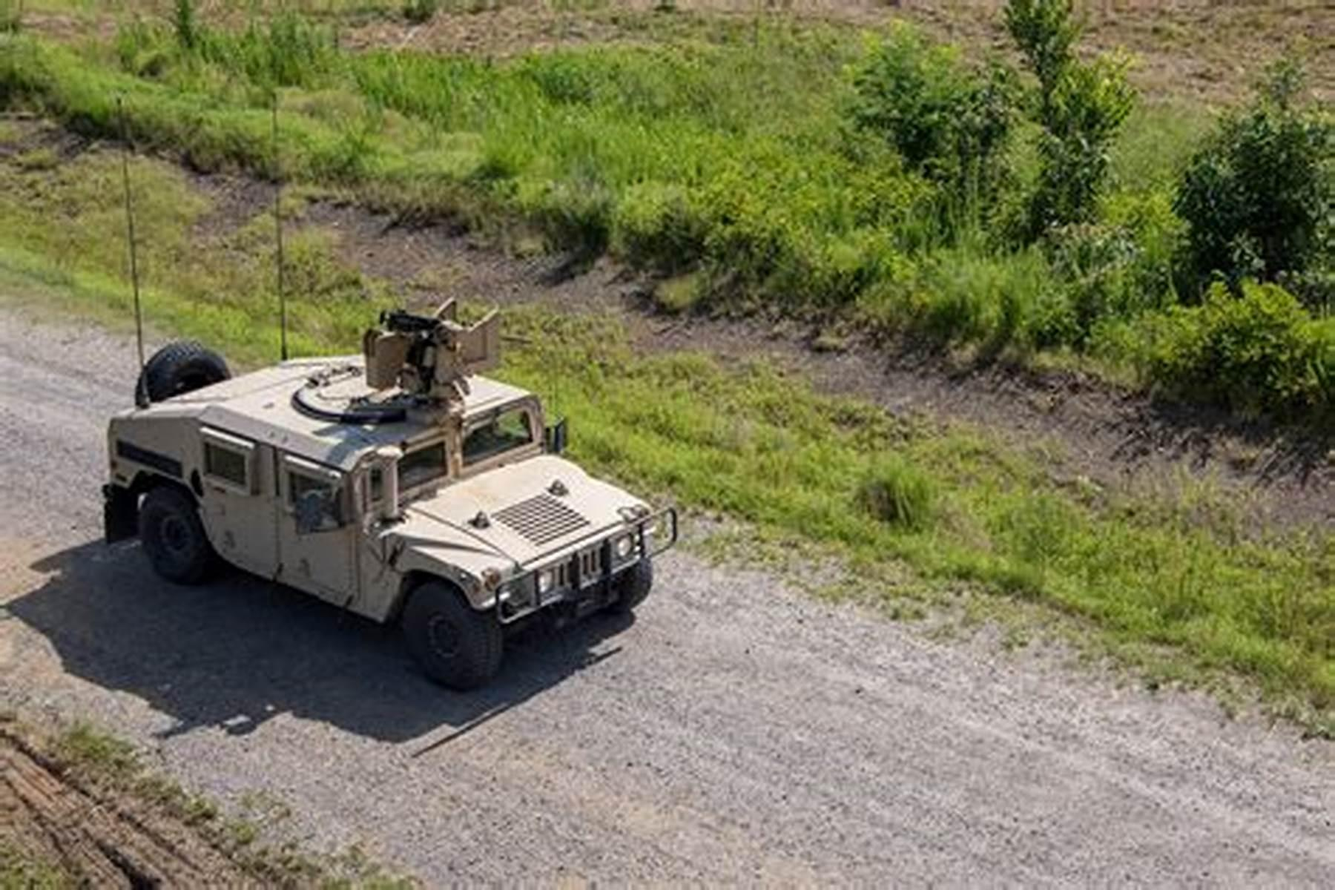armored_car: (99, 305, 670, 695)
